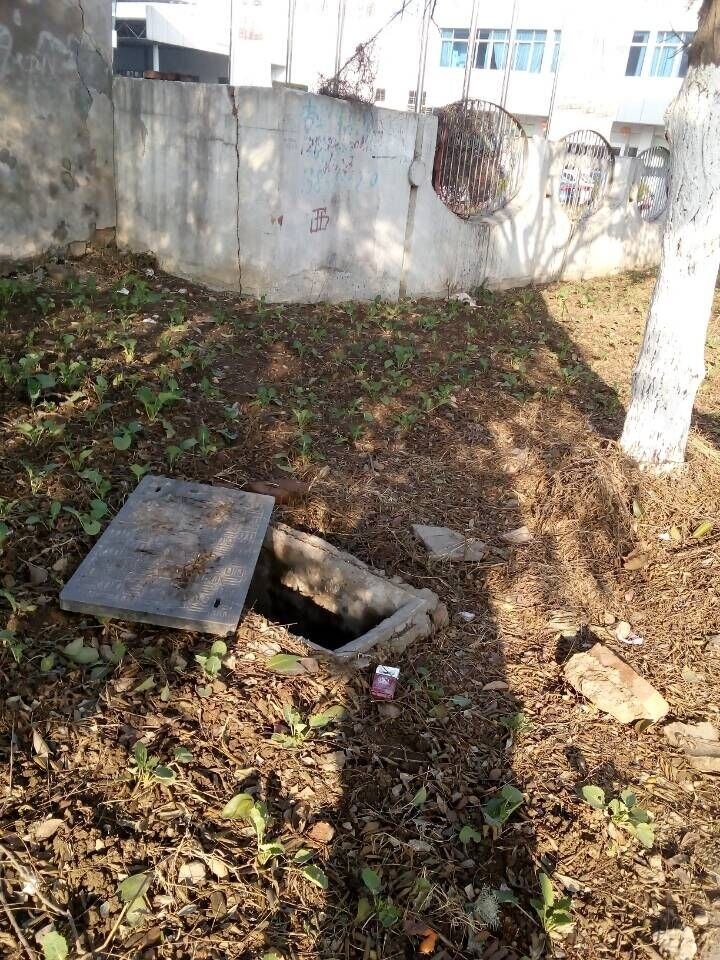uncovered: (55, 471, 432, 673)
